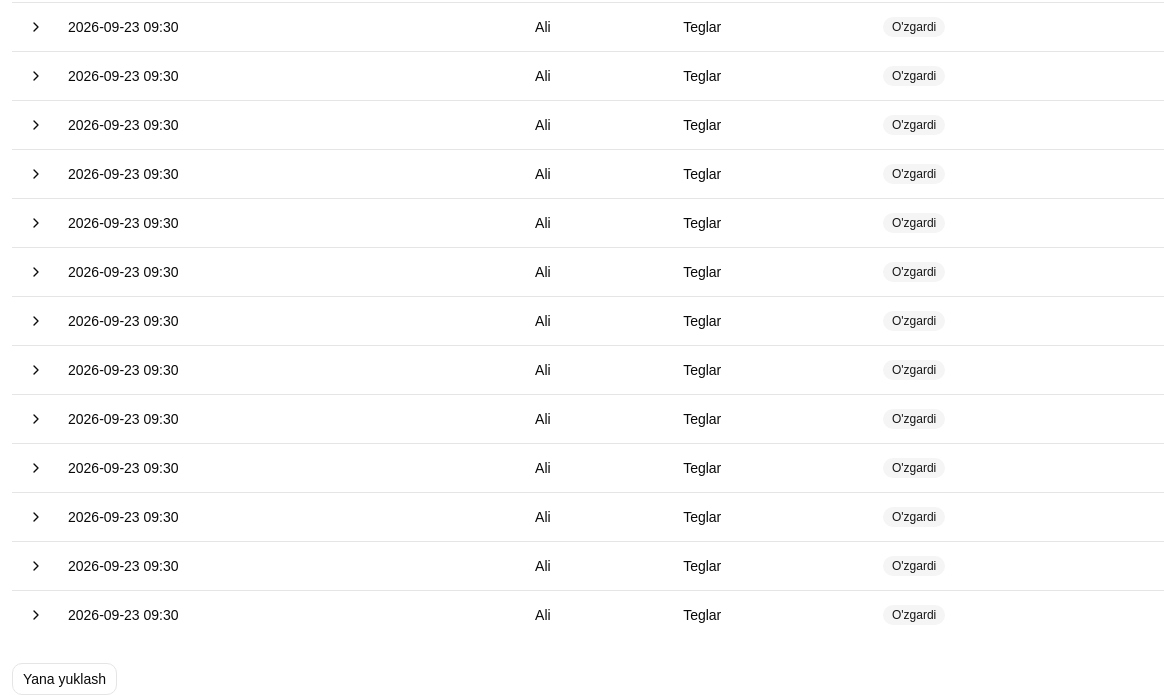
Test: AuditPage (E25-T05, BR-008) › sahifa to‘lsa — "Yana yuklash" keyset bilan
This screenshot has width=1164, height=695.
(page scrolled)
Click the button "Yana yuklash" at (64, 678), box top-left (12, 662), bottom-right (117, 694)
(page scrolled)
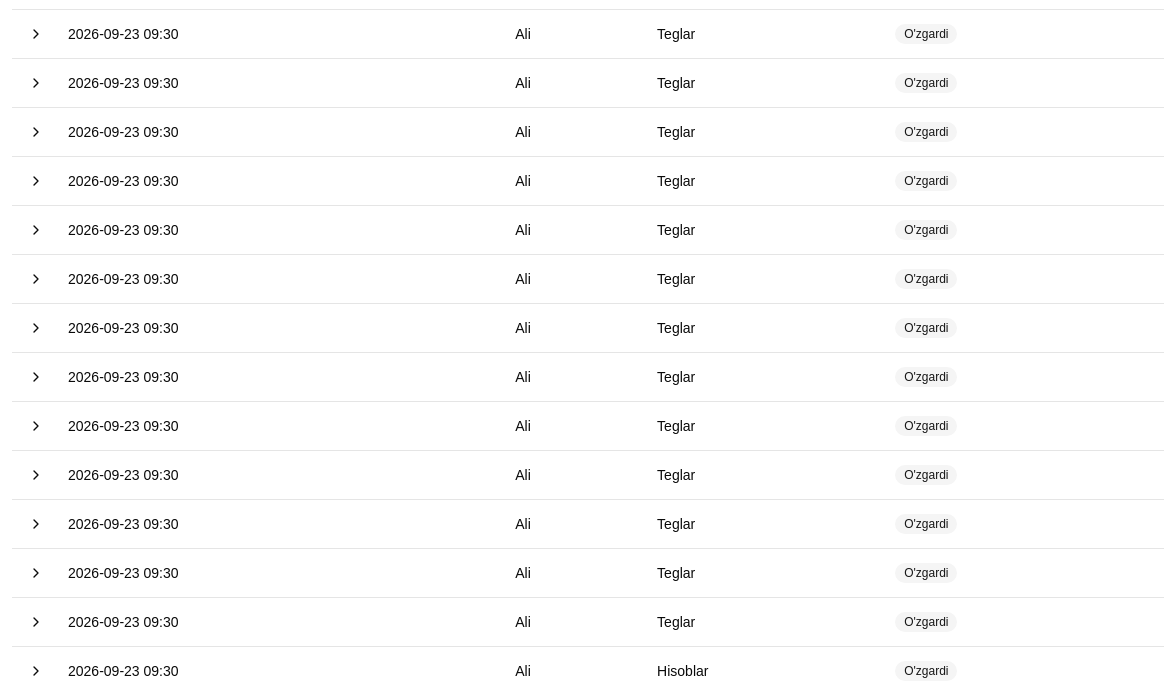
Expected: the text "Hisoblar" is shown, top-left (649, 646), bottom-right (887, 694)
